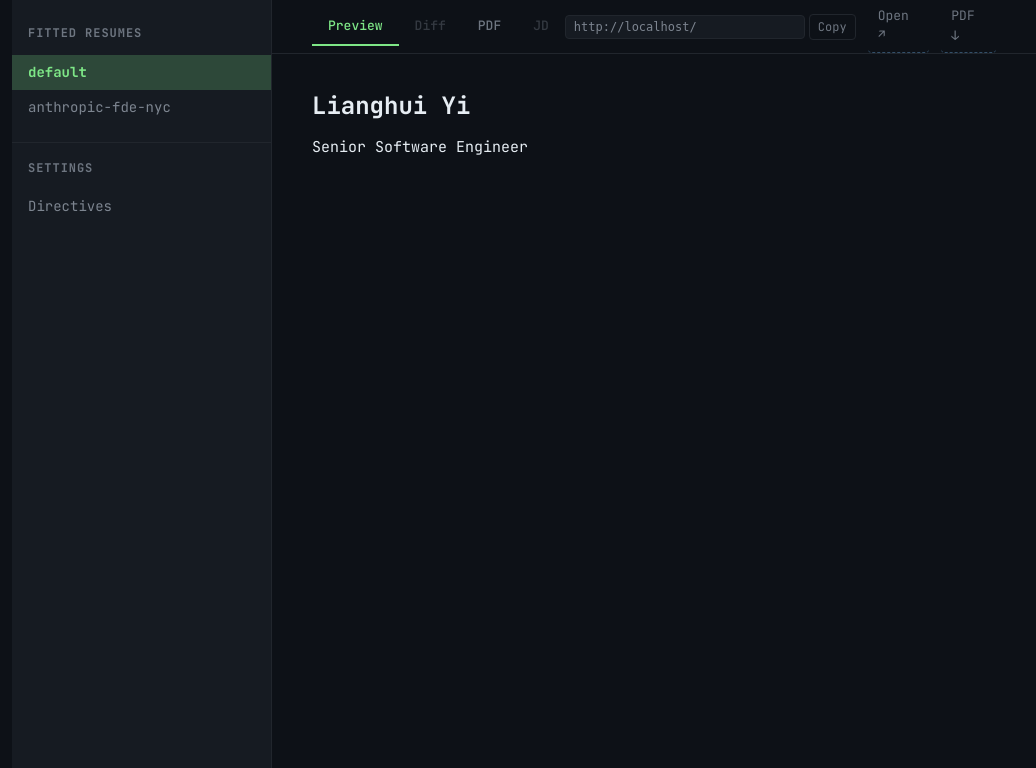
Scenario: Dashboard › switches to another resume when sidebar item is clicked
This screenshot has width=1036, height=768.
Click the button "anthropic-fde-nyc" at (142,108), box [12,90,271,126]
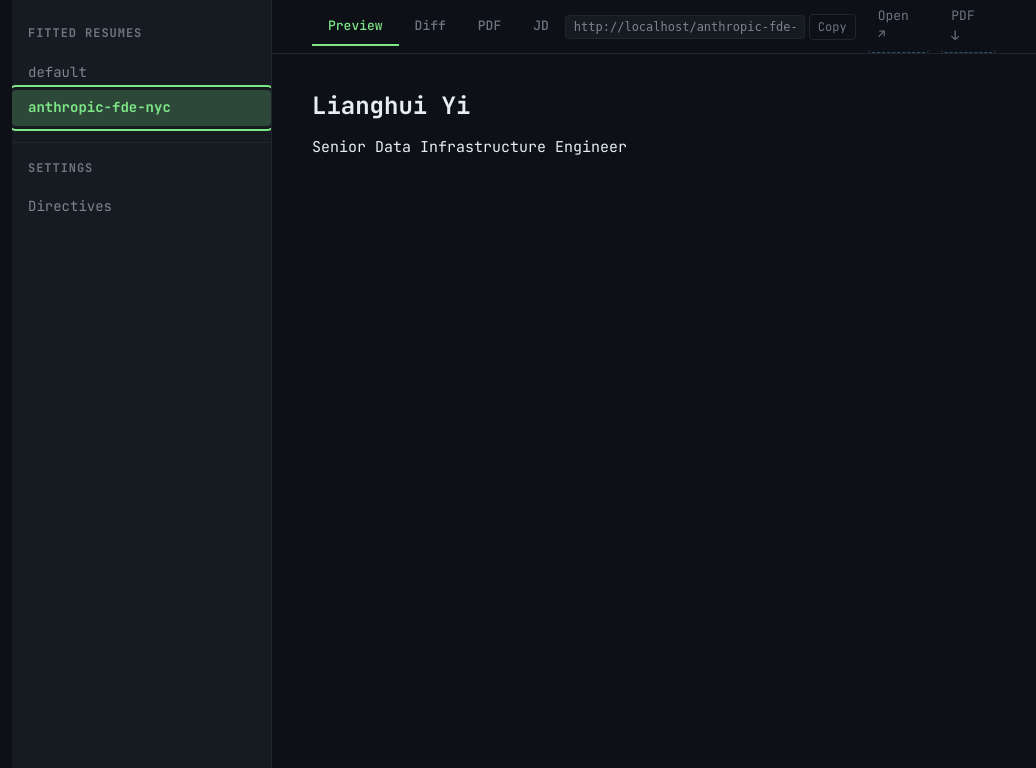
Check: the text "Senior Data Infrastructure Engineer" is shown, box [312,137,627,157]
